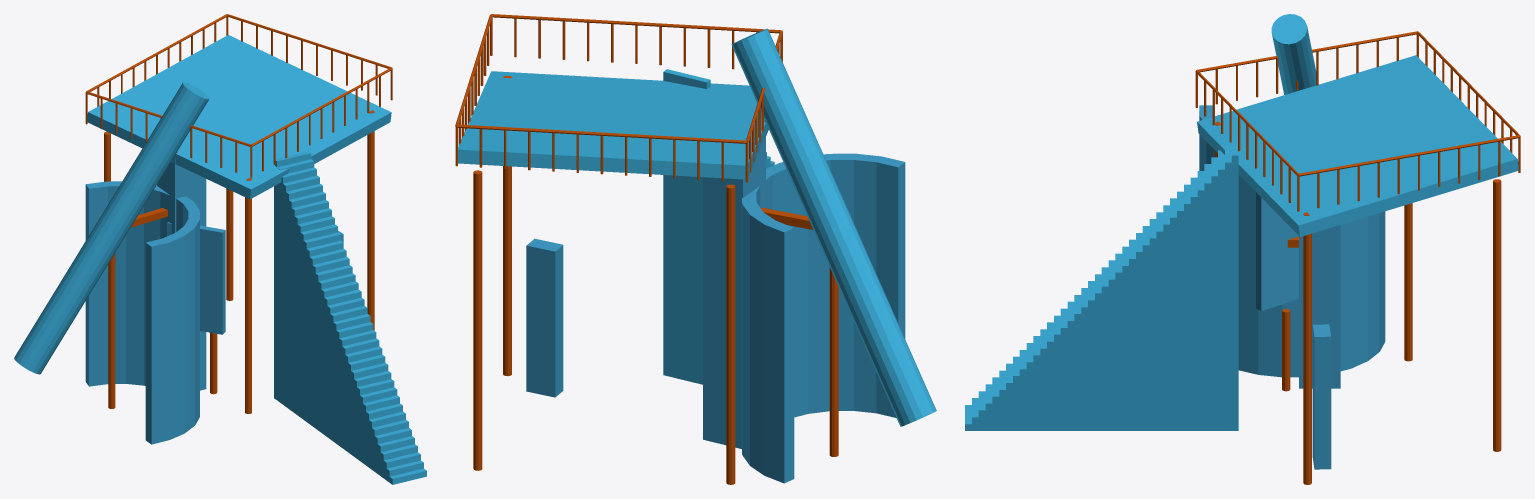
The model's file is folie_tag_114.glb.
3 renders of one model, left to right at view 1: azimuth 30°, elevation 25°; view 2: azimuth 150°, elevation 25°; view 3: azimuth 270°, elevation 25°, orthographic. The views are drawn at different scales.
Visible parts, largest first — view 1: folie_tag_114_stairs, folie_tag_114_00_plate, folie_tag_114_01_curve, folie_tag_114_line, folie_tag_114_02_tube, folie_tag_114_03_panel, folie_tag_114_core; view 2: folie_tag_114_01_curve, folie_tag_114_00_plate, folie_tag_114_line, folie_tag_114_02_tube, folie_tag_114_core, folie_tag_114_stairs, folie_tag_114_04_fin; view 3: folie_tag_114_stairs, folie_tag_114_00_plate, folie_tag_114_line, folie_tag_114_01_curve, folie_tag_114_core, folie_tag_114_03_panel, folie_tag_114_04_fin, folie_tag_114_02_tube.
Boxes of the visible parts, bbox=[...] form: folie_tag_114_stairs: bbox=[274, 151, 426, 484]; folie_tag_114_00_plate: bbox=[87, 35, 391, 199]; folie_tag_114_01_curve: bbox=[85, 181, 199, 444]; folie_tag_114_line: bbox=[85, 14, 392, 413]; folie_tag_114_02_tube: bbox=[14, 82, 209, 374]; folie_tag_114_03_panel: bbox=[167, 222, 225, 334]; folie_tag_114_core: bbox=[157, 158, 206, 390]; folie_tag_114_01_curve: bbox=[741, 153, 905, 483]; folie_tag_114_00_plate: bbox=[458, 71, 768, 179]; folie_tag_114_line: bbox=[455, 14, 838, 484]; folie_tag_114_02_tube: bbox=[731, 28, 936, 426]; folie_tag_114_core: bbox=[703, 129, 765, 448]; folie_tag_114_stairs: bbox=[663, 69, 774, 384]; folie_tag_114_04_fin: bbox=[526, 238, 563, 397]; folie_tag_114_stairs: bbox=[965, 136, 1238, 430]; folie_tag_114_00_plate: bbox=[1197, 55, 1518, 236]; folie_tag_114_line: bbox=[1195, 31, 1520, 484]; folie_tag_114_01_curve: bbox=[1199, 105, 1385, 377]; folie_tag_114_core: bbox=[1299, 225, 1340, 388]; folie_tag_114_03_panel: bbox=[1256, 192, 1298, 311]; folie_tag_114_04_fin: bbox=[1312, 324, 1331, 469]; folie_tag_114_02_tube: bbox=[1271, 14, 1316, 94].
Size of the model in its own units: 12.72 by 10.46 by 14.64.
